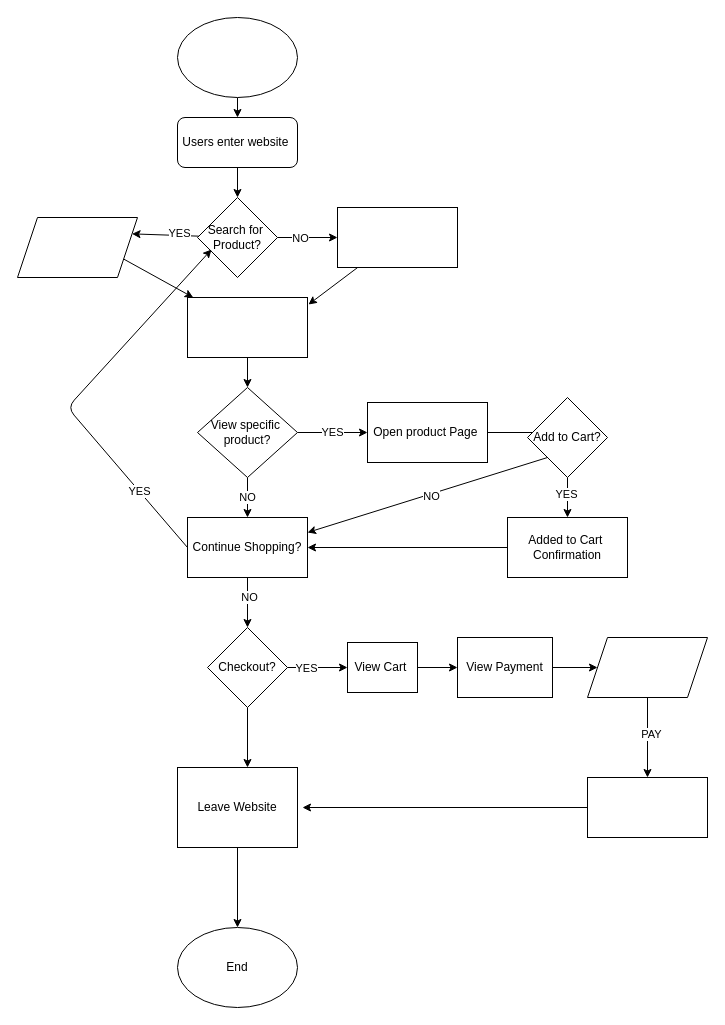
This 725x1025 diagram has some shape labels left out. The box of each missing label's shape, as (x1, y1, x2, y2) in pixels:
Explore Homepage: (336, 206, 458, 268)
Order Confirmation + Send Email: (586, 776, 708, 838)
Payment Information: (586, 636, 708, 698)
Search Input: (16, 216, 138, 278)
Start: (176, 16, 298, 98)
View Products: (186, 296, 308, 358)
